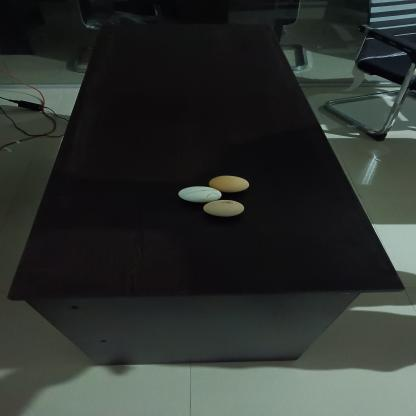egg: (209, 175, 252, 193), (180, 186, 224, 202), (202, 200, 246, 216)
